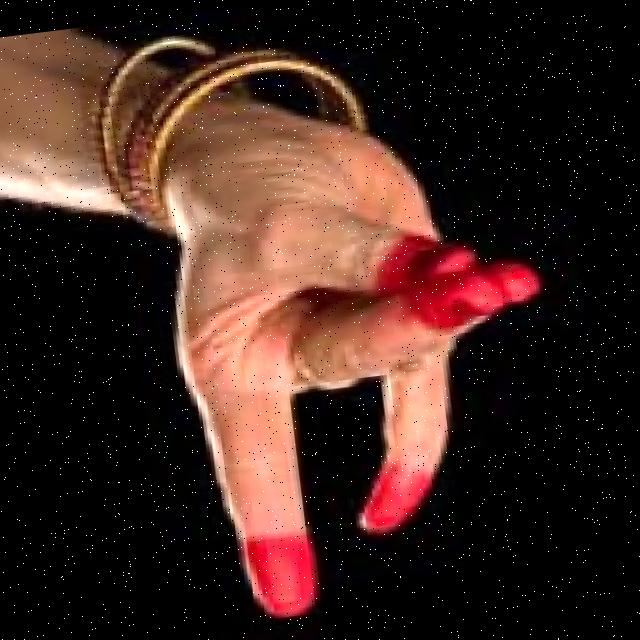Simhamukha: (81, 61, 588, 640)
